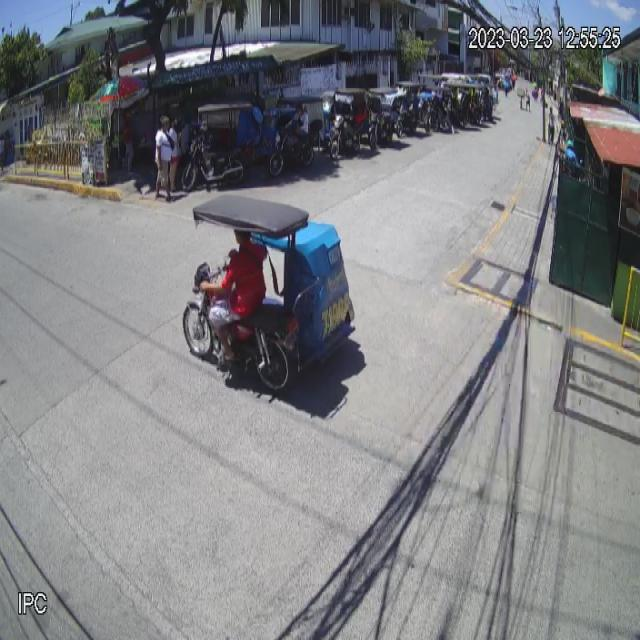Tricycle: (182, 195, 358, 392)
